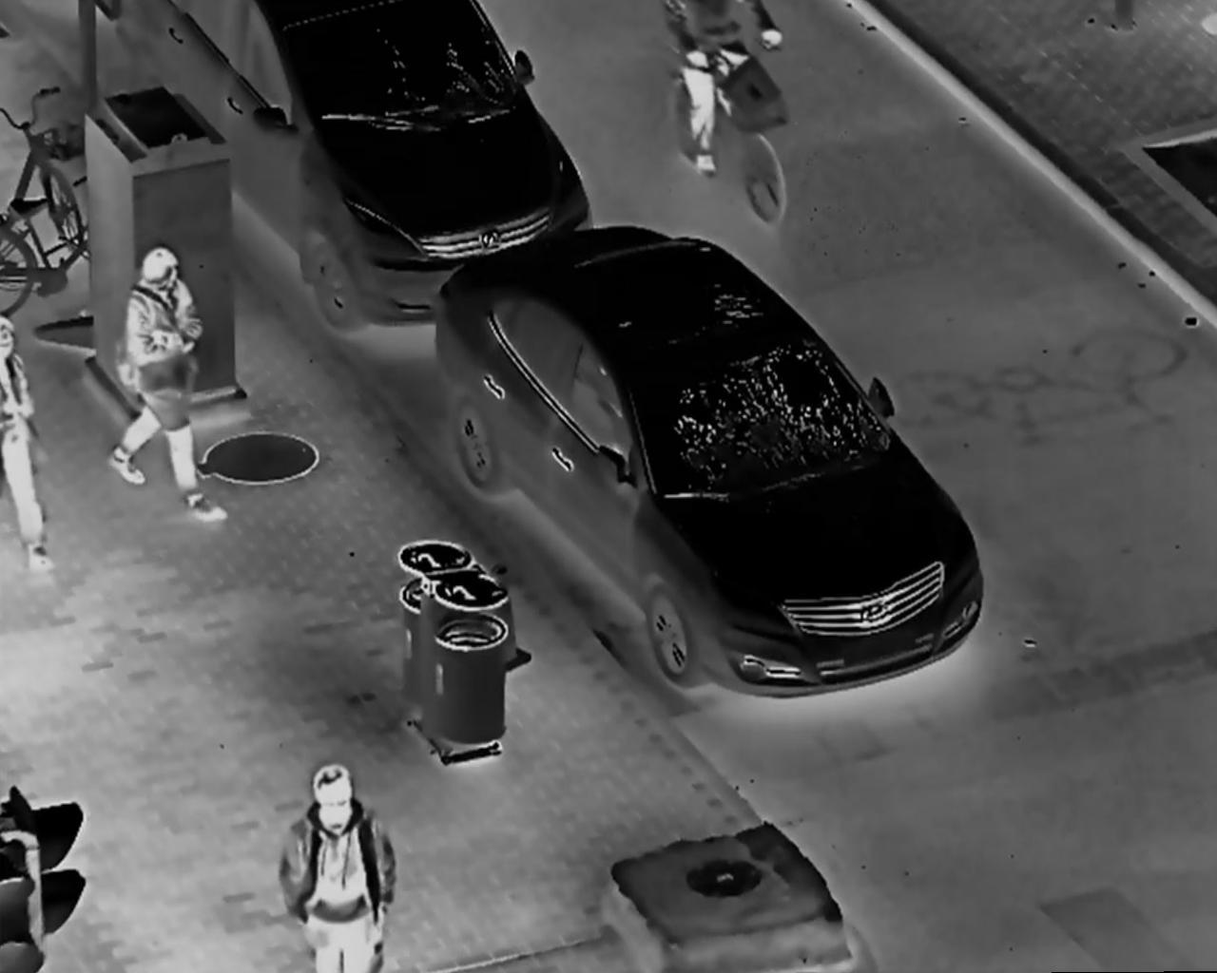person: (106, 241, 239, 530), (271, 761, 408, 973)
